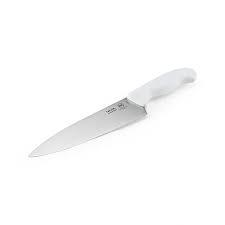Knife: (27, 66, 197, 158)
